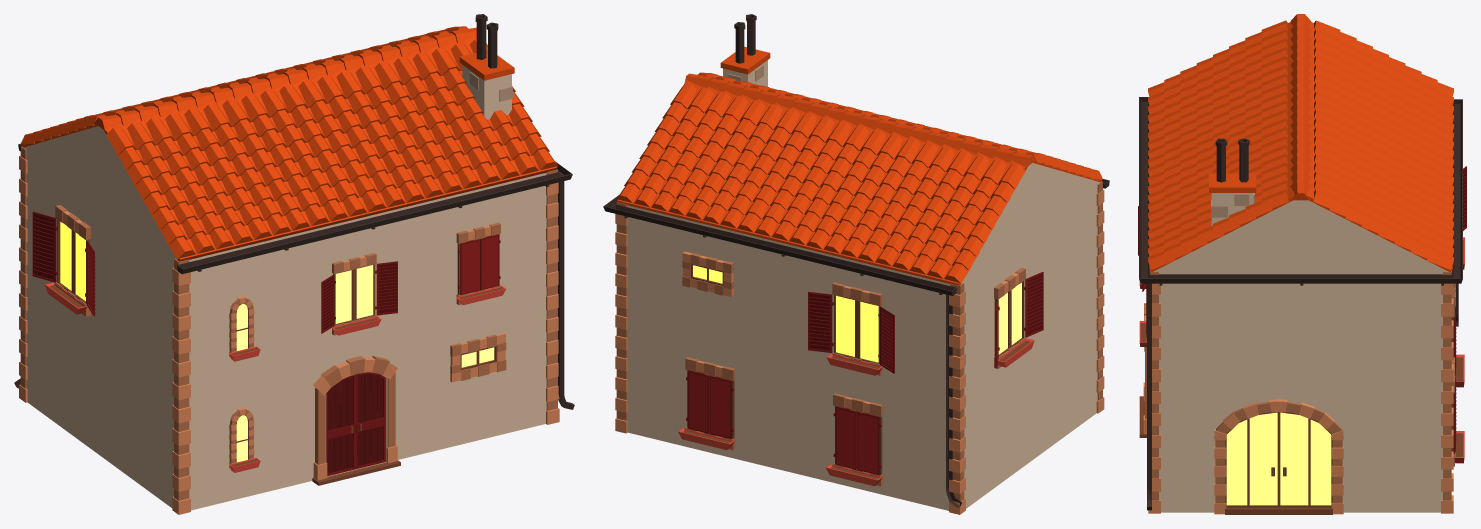
File: house_1.glb
3 renders of one model, left to right at view 1: azimuth 30°, elevation 25°; view 2: azimuth 150°, elevation 25°; view 3: azimuth 270°, elevation 25°, orthographic. The views are drawn at different scales.
Parts seen in each view (by area): view 1: house 1_brick 1_0; view 2: house 1_brick 1_0; view 3: house 1_brick 1_0.
Boxes of the visible parts, bbox=[...] form: house 1_brick 1_0: bbox=[14, 14, 574, 514]; house 1_brick 1_0: bbox=[603, 14, 1109, 514]; house 1_brick 1_0: bbox=[1138, 14, 1466, 514].
Size of the model in its own units: 10.29 by 9.06 by 7.5.
